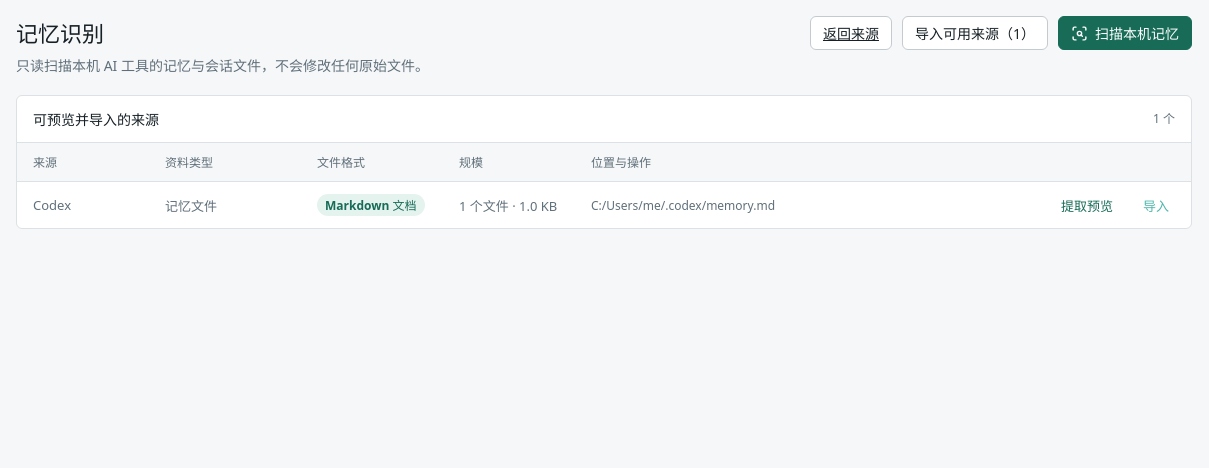
Test: RecognitionView › shows preview ownership and extraction evidence
Step 1. Click the button "提取预览" → (1087, 205), box [1055,194,1119,216]
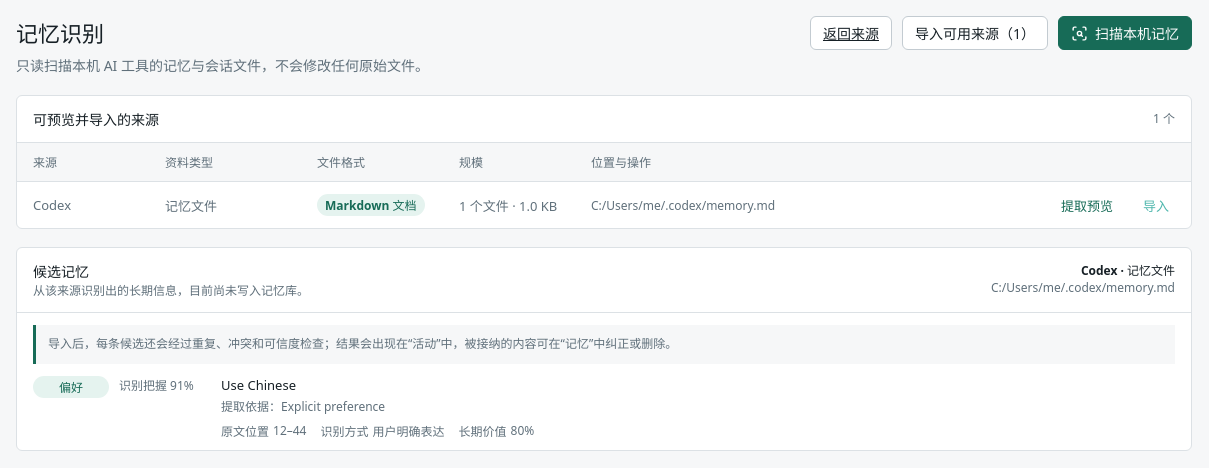
Now the text "候选记忆" is shown, box [33,262,89,281]
Now the text "目前尚未写入记忆库" is shown, box [33,282,309,299]
Now the text "Codex · 记忆文件" is shown, box [1081,262,1175,279]
